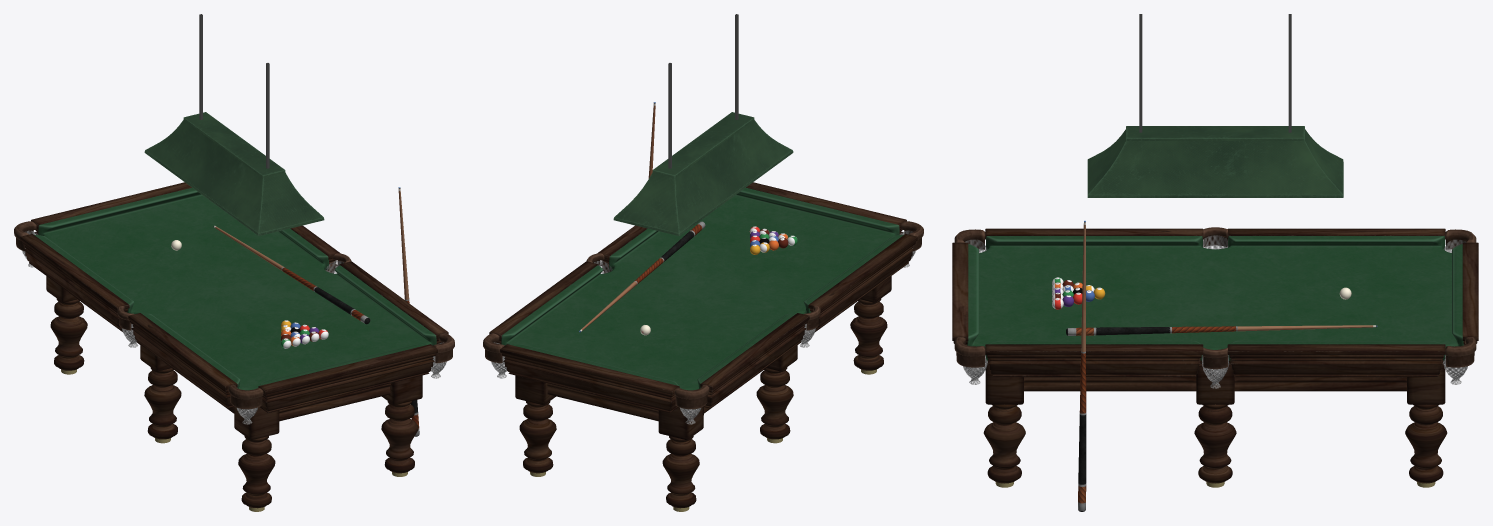
The model's file is pool_table_traditional.glb.
The picture shows the model from 3 angles, left to right: view 1: azimuth 30°, elevation 25°; view 2: azimuth 150°, elevation 25°; view 3: azimuth 270°, elevation 25°; orthographic projection. The views are drawn at different scales.
Parts seen in each view (by area): view 1: pooltable_low_pool_table_mat_0, ceiling_light_low_light_mat_0, pool_cue_cue_mat_0, pool_cue001_cue_mat_0; view 2: pooltable_low_pool_table_mat_0, ceiling_light_low_light_mat_0, pool_cue_cue_mat_0; view 3: pooltable_low_pool_table_mat_0, ceiling_light_low_light_mat_0, pool_cue_cue_mat_0, pool_cue001_cue_mat_0.
Boxes of the visible parts, box(x1,y1,x2,y2) form: pooltable_low_pool_table_mat_0: box(14, 182, 454, 511); ceiling_light_low_light_mat_0: box(144, 14, 324, 235); pool_cue_cue_mat_0: box(213, 225, 370, 324); pool_cue001_cue_mat_0: box(398, 187, 419, 436); pooltable_low_pool_table_mat_0: box(483, 182, 923, 511); ceiling_light_low_light_mat_0: box(613, 14, 793, 235); pool_cue_cue_mat_0: box(579, 221, 705, 332); pooltable_low_pool_table_mat_0: box(952, 227, 1478, 487); ceiling_light_low_light_mat_0: box(1087, 14, 1343, 197); pool_cue_cue_mat_0: box(1066, 325, 1377, 335); pool_cue001_cue_mat_0: box(1078, 220, 1086, 511).
Bounding box in the file's own units: 1.47 × 2.25 × 2.49.
Materials: 4 (4 with a texture image).
